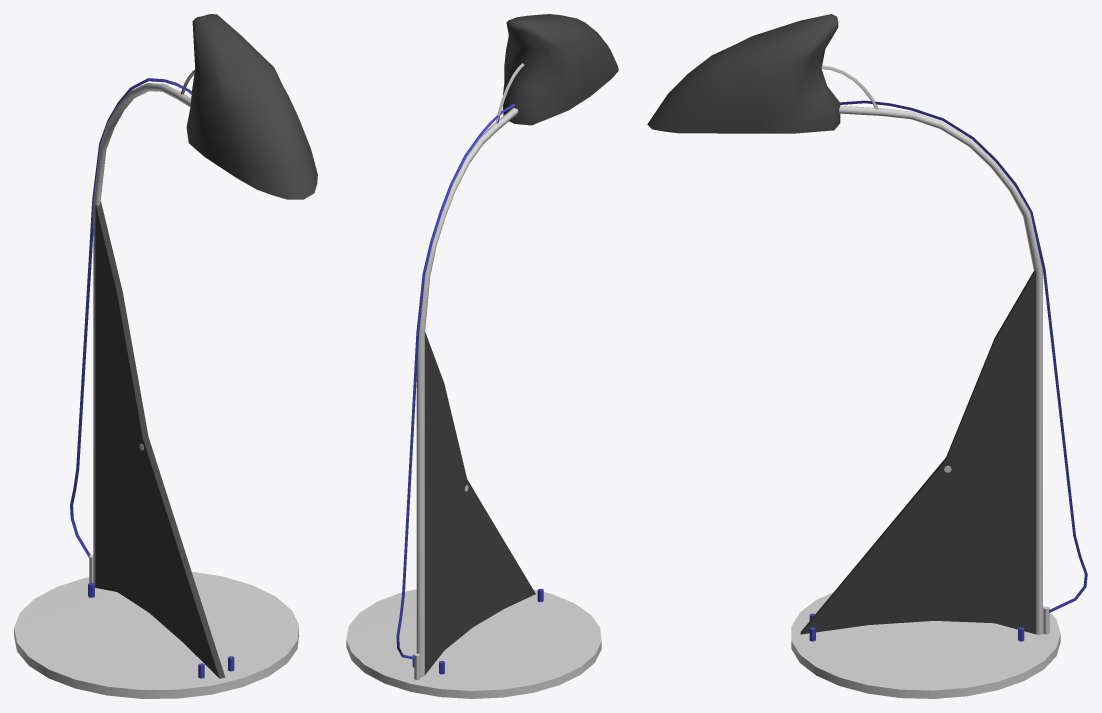
The model's file is CR_SM_Prop_Desklamp_001.FBX.
3 views of the same model, side by side, from view 1: azimuth 30°, elevation 25°; view 2: azimuth 150°, elevation 25°; view 3: azimuth 270°, elevation 25° (orthographic). The views are drawn at different scales.
Visible parts, largest first — view 1: CR_SM_Prop_Desklamp_001; view 2: CR_SM_Prop_Desklamp_001; view 3: CR_SM_Prop_Desklamp_001.
Part boxes in pixels (x1,y1,x2,y2): CR_SM_Prop_Desklamp_001: [14, 14, 317, 698]; CR_SM_Prop_Desklamp_001: [346, 14, 618, 698]; CR_SM_Prop_Desklamp_001: [647, 14, 1087, 698].
Size of the model in its own units: 19.86 by 32.43 by 50.81.
